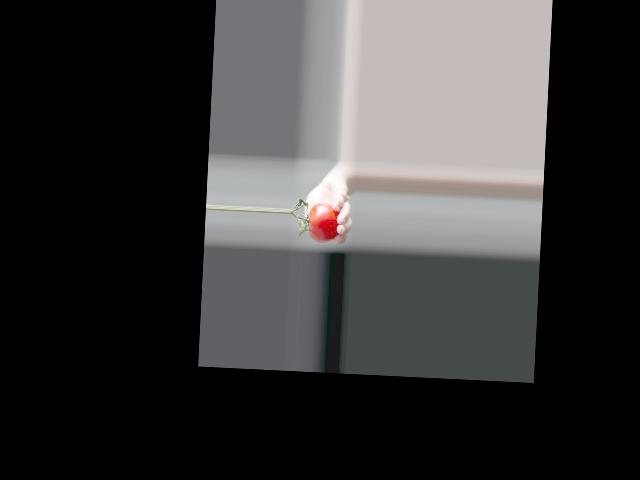tomato: (306, 202, 339, 243)
